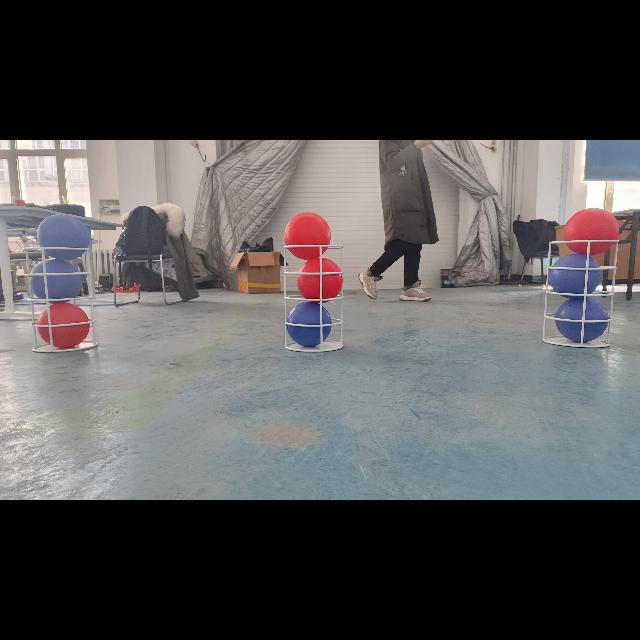B: (36, 215, 94, 262), (552, 298, 610, 342), (546, 256, 602, 300), (32, 258, 82, 304), (287, 302, 333, 346)
R: (564, 210, 620, 258), (37, 302, 93, 348), (284, 213, 332, 261), (296, 255, 342, 299)
S: (538, 236, 622, 352), (21, 243, 97, 355), (276, 244, 348, 352)
